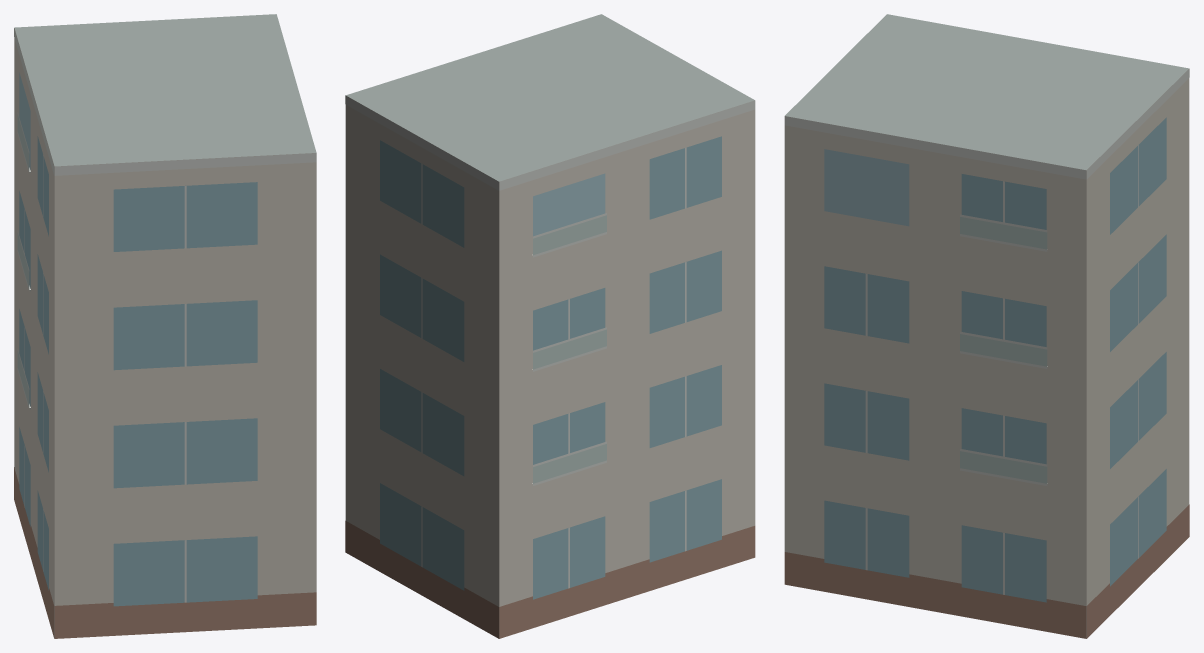
Rendered from residential-74f2de54-84c2-4276-a205-eff62f32df74.glb.
3 views of the same model, side by side, from view 1: azimuth 30°, elevation 25°; view 2: azimuth 150°, elevation 25°; view 3: azimuth 270°, elevation 25° (orthographic). The views are drawn at different scales.
Parts seen in each view (by area): view 1: residential-74f2de54-84c2-4276-a205-eff62f32df74.tmp; view 2: residential-74f2de54-84c2-4276-a205-eff62f32df74.tmp; view 3: residential-74f2de54-84c2-4276-a205-eff62f32df74.tmp.
Part boxes in pixels (left/top/right/bottom): residential-74f2de54-84c2-4276-a205-eff62f32df74.tmp: left=14, top=14, right=316, bottom=638; residential-74f2de54-84c2-4276-a205-eff62f32df74.tmp: left=345, top=14, right=755, bottom=638; residential-74f2de54-84c2-4276-a205-eff62f32df74.tmp: left=784, top=14, right=1189, bottom=638.
Bounding box in the file's own units: 8.73 × 12.2 × 9.56.
